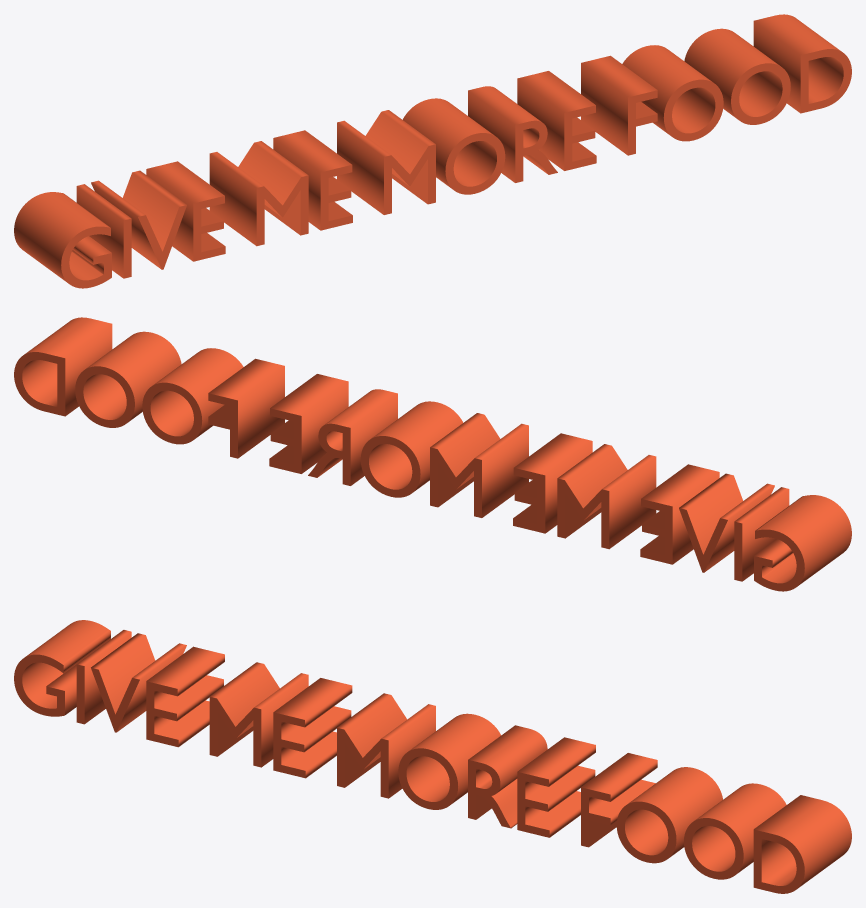
File: Gluttony2.fbx
The picture shows the model from 3 angles, top to bottom: view 1: azimuth 30°, elevation 25°; view 2: azimuth 150°, elevation 25°; view 3: azimuth 330°, elevation 25°; orthographic projection.
Visible parts, largest first — view 1: Text; view 2: Text; view 3: Text.
Part boxes in pixels (x1,y1,x2,y2): Text: [14, 14, 851, 288]; Text: [14, 317, 851, 591]; Text: [14, 620, 851, 893].
Bounding box in the file's own units: 969 × 70 × 100.
